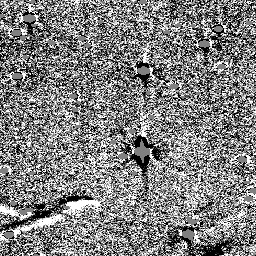LE: (14, 211, 66, 233), (58, 193, 106, 211), (1, 198, 17, 222)
